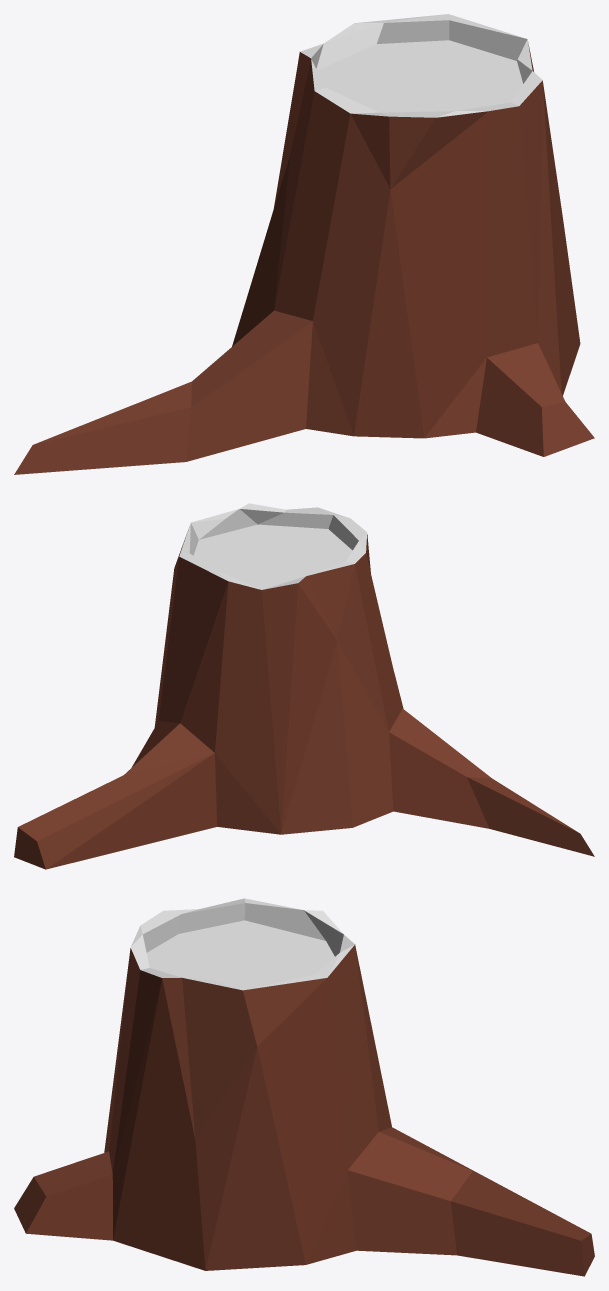
File: pine_trunk_type_2_extra_LOD1.fbx
3 views of the same model, one above another, from view 1: azimuth 30°, elevation 25°; view 2: azimuth 150°, elevation 25°; view 3: azimuth 270°, elevation 25° (orthographic). The views are drawn at different scales.
Parts seen in each view (by area): view 1: pt_type_2_extra; view 2: pt_type_2_extra; view 3: pt_type_2_extra.
Boxes of the visible parts, left/top/right/bottom form: pt_type_2_extra: left=14, top=14, right=594, bottom=474; pt_type_2_extra: left=14, top=503, right=594, bottom=869; pt_type_2_extra: left=14, top=898, right=594, bottom=1276.
Size of the model in its own units: 367 by 194 by 371.
